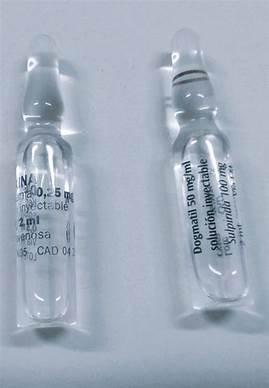Syringe: (7, 23, 94, 352), (159, 19, 256, 312)
